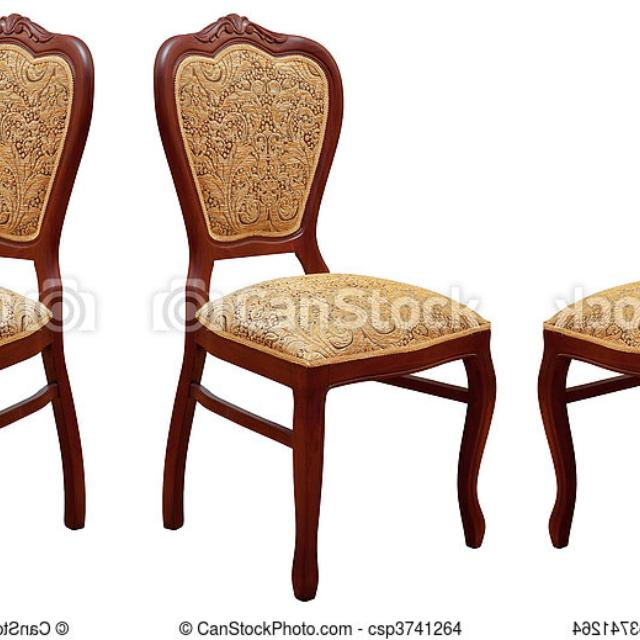obstacle: (140, 16, 490, 616), (0, 15, 106, 616), (541, 15, 640, 616)
